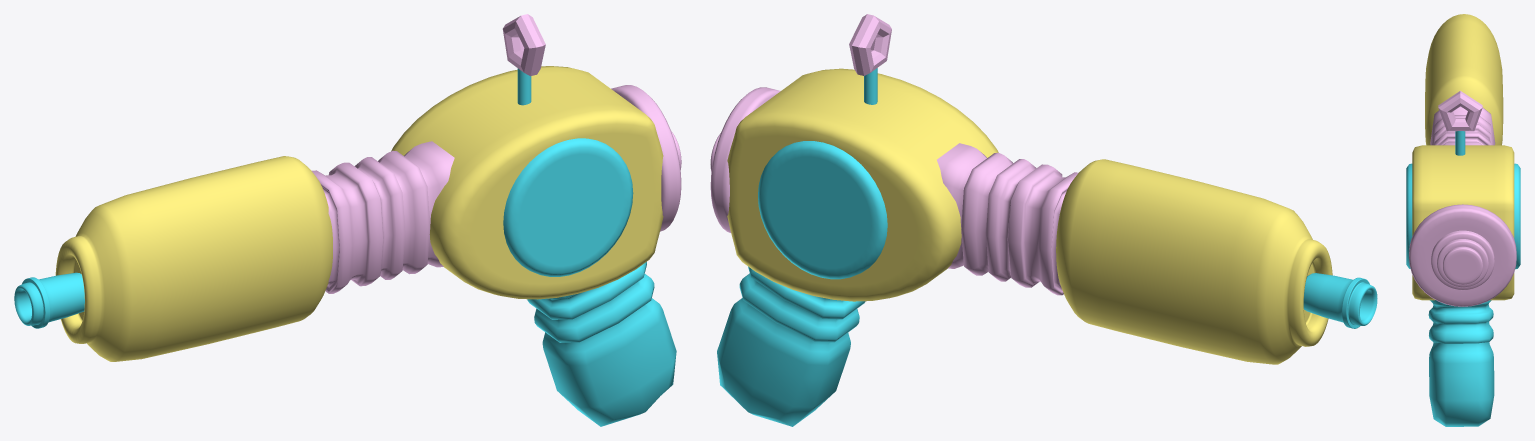
Rendered from Gun_asset_FBX.fbx.
3 renders of one model, left to right at view 1: azimuth 30°, elevation 25°; view 2: azimuth 150°, elevation 25°; view 3: azimuth 270°, elevation 25°, orthographic. The views are drawn at different scales.
Visible parts, largest first — view 1: gun_Barrel, Gun_base, Gun_handle, Gun_sides, Gun_Bridge, Gun_Nozzel, Gun_back, Gun_aim; view 2: gun_Barrel, Gun_base, Gun_handle, Gun_sides, Gun_Bridge, Gun_Nozzel, Gun_back, Gun_aim; view 3: Gun_back, Gun_handle, Gun_base, gun_Barrel, Gun_aim, Gun_Bridge, Gun_sides.
Part boxes in pixels (bbox=[...]): gun_Barrel: bbox=[55, 156, 332, 361]; Gun_base: bbox=[391, 66, 663, 299]; Gun_handle: bbox=[527, 262, 676, 426]; Gun_sides: bbox=[503, 138, 633, 276]; Gun_Bridge: bbox=[312, 141, 454, 293]; Gun_Nozzel: bbox=[14, 272, 84, 328]; Gun_back: bbox=[611, 85, 681, 231]; Gun_aim: bbox=[502, 14, 545, 105]; gun_Barrel: bbox=[1056, 159, 1332, 364]; Gun_base: bbox=[727, 68, 998, 301]; Gun_handle: bbox=[717, 266, 865, 426]; Gun_sides: bbox=[758, 141, 887, 279]; Gun_Bridge: bbox=[937, 143, 1078, 295]; Gun_Nozzel: bbox=[1303, 273, 1377, 328]; Gun_back: bbox=[710, 87, 780, 232]; Gun_aim: bbox=[849, 14, 891, 104]; Gun_back: bbox=[1409, 204, 1516, 306]; Gun_handle: bbox=[1428, 300, 1494, 426]; Gun_base: bbox=[1412, 145, 1514, 300]; gun_Barrel: bbox=[1425, 14, 1503, 145]; Gun_aim: bbox=[1438, 91, 1482, 155]; Gun_Bridge: bbox=[1430, 106, 1495, 145]; Gun_sides: bbox=[1406, 163, 1520, 269].
Size of the model in its own units: 27.83 by 17.32 by 5.97.
